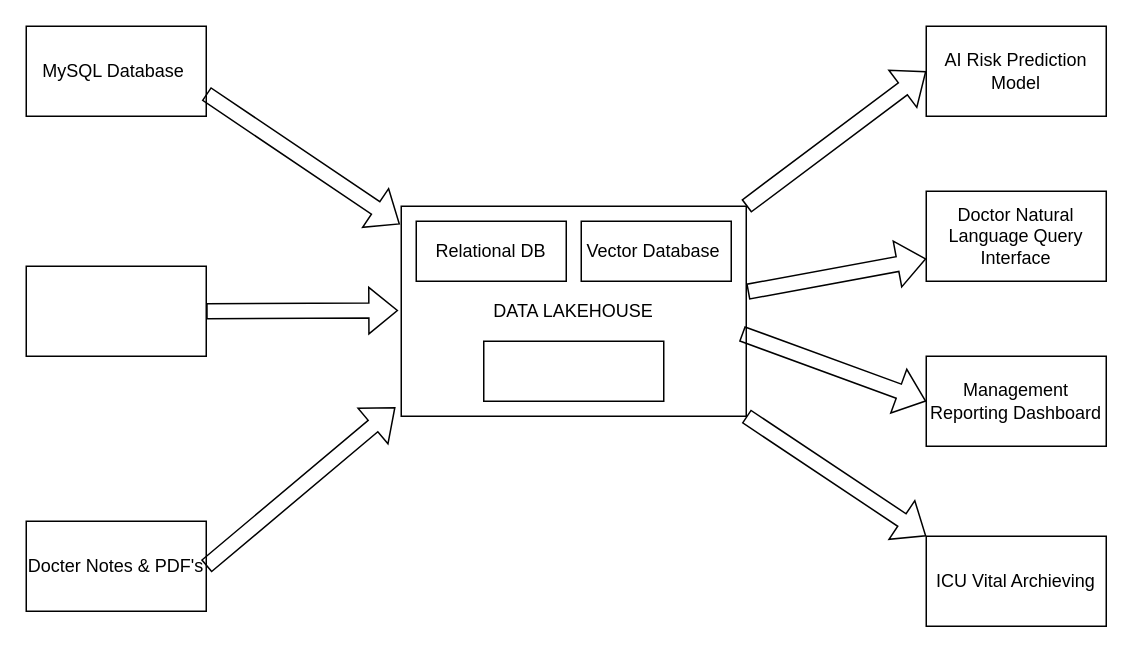
Image size: 1133x653. Some labels were removed from this diagram. Each missing label, with the centre of its shape:
"Data Lake" goes at (x=573, y=370).
"ICU Monitering Devices" goes at (x=115, y=310).
